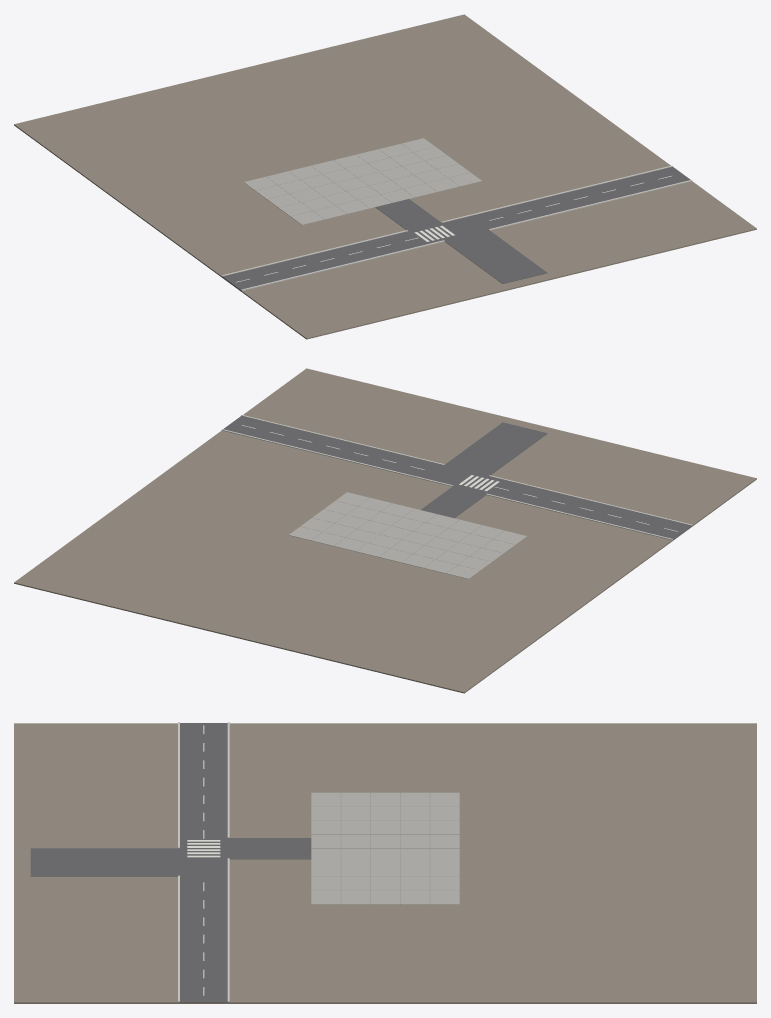
File: a_ground.glb
The picture shows the model from 3 angles, top to bottom: view 1: azimuth 30°, elevation 25°; view 2: azimuth 150°, elevation 25°; view 3: azimuth 270°, elevation 25°; orthographic projection. The views are drawn at different scales.
Visible parts, largest first — view 1: dirt, roads, plaza, curbs, plaza_seams; view 2: dirt, roads, plaza, curbs, plaza_seams; view 3: dirt, roads, plaza, plaza_seams, curbs, road_marks.
Boxes of the visible parts, bbox=[...] form: dirt: bbox=[14, 14, 756, 339]; roads: bbox=[222, 166, 690, 289]; plaza: bbox=[243, 138, 481, 225]; curbs: bbox=[221, 165, 692, 290]; plaza_seams: bbox=[255, 143, 470, 219]; dirt: bbox=[14, 368, 756, 693]; roads: bbox=[223, 416, 691, 539]; plaza: bbox=[289, 492, 527, 579]; curbs: bbox=[221, 415, 692, 540]; plaza_seams: bbox=[300, 497, 515, 573]; dirt: bbox=[14, 723, 756, 1003]; roads: bbox=[30, 723, 311, 1002]; plaza: bbox=[311, 792, 459, 904]; plaza_seams: bbox=[311, 792, 459, 904]; curbs: bbox=[178, 722, 229, 1002]; road_marks: bbox=[187, 725, 220, 995].
Size of the model in its own units: 80 by 0.35 by 90.
